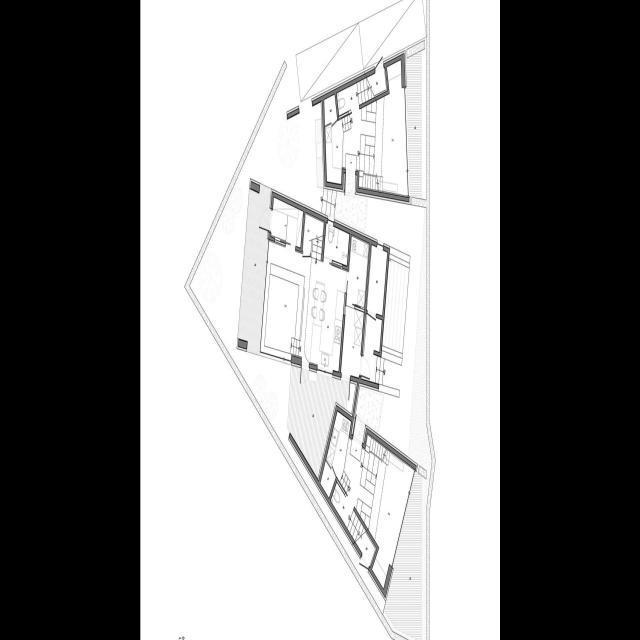background: (140, 0, 500, 640)
space_front: (340, 437, 365, 506), (270, 197, 303, 248), (342, 110, 359, 171)
space_kitchen: (303, 257, 346, 372), (326, 411, 351, 482), (325, 119, 343, 184)
space_living_room: (354, 434, 413, 589), (358, 60, 407, 197), (261, 240, 311, 359)
space_other: (340, 306, 364, 378), (346, 235, 369, 308), (347, 510, 376, 567), (366, 245, 387, 316), (361, 314, 382, 382), (357, 68, 387, 105), (302, 213, 324, 261), (320, 461, 335, 498), (324, 94, 337, 126)
space_toilet: (323, 223, 349, 265), (330, 482, 353, 528), (336, 83, 359, 116)
